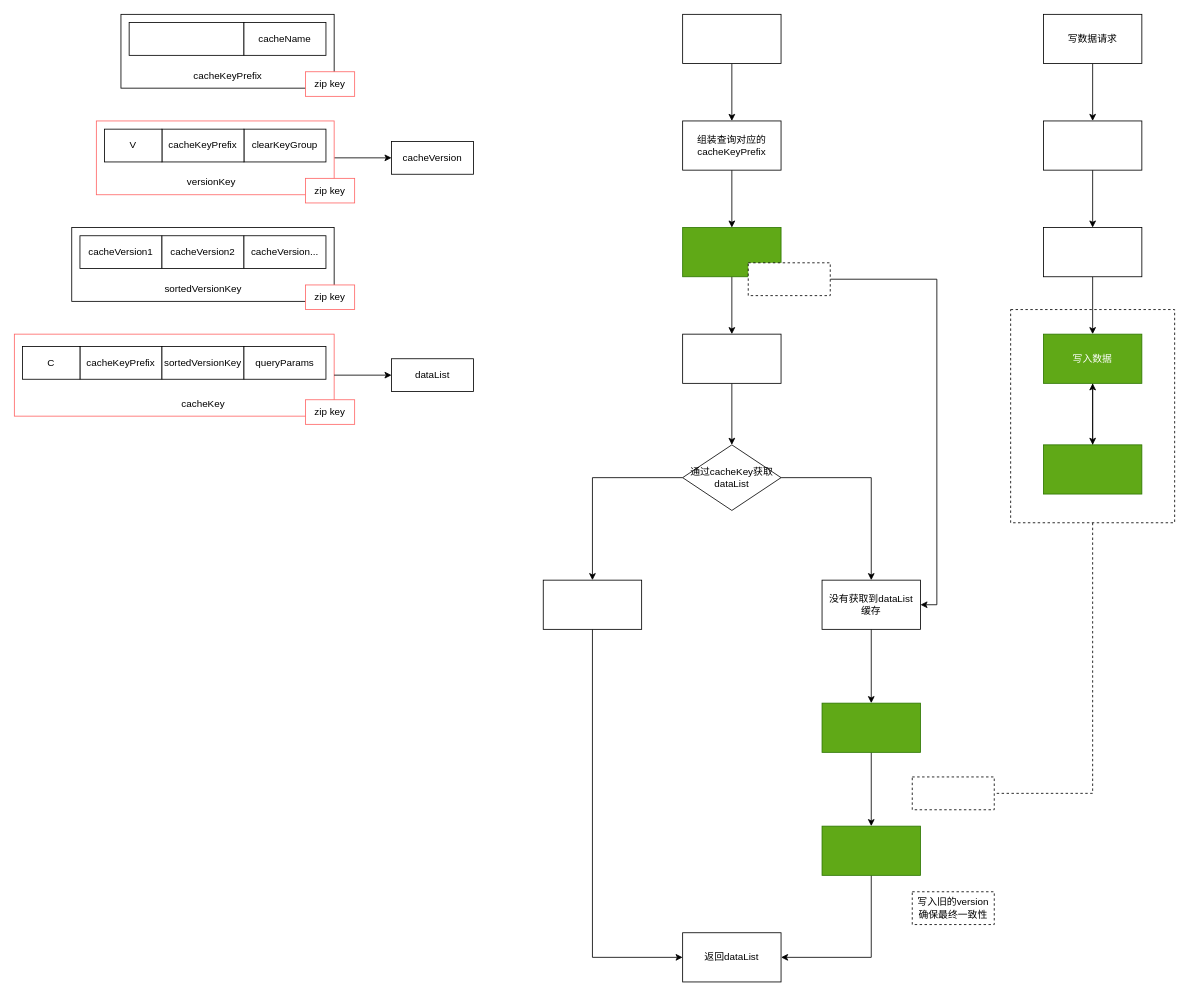
Some shapes in this 1189 by 996 pixel diagram are drawn without their labels. Each missing label, with the box of its shape:
cacheManagerName: (128, 22, 244, 55)
gap: (911, 776, 994, 810)
set cacheVersion: (747, 262, 830, 296)
写入cacheKey到dataList的映射: (821, 825, 920, 875)
执行缓存查询函数获取dataList: (821, 702, 920, 752)
查询数据请求: (682, 14, 781, 64)
清理所有cacheKeyPrefix对应的cacheVersion: (1043, 444, 1142, 494)
组装cacheKey: (682, 333, 781, 383)
获取 || 预获取cacheVersion: (682, 227, 781, 277)
获取到dataList 缓存: (542, 579, 642, 629)
遍历查询元数据表，通过原数据获取所有的查询元数据的cacheKeyPrefix: (1043, 227, 1142, 277)
预获取原数据: (1043, 120, 1142, 170)
